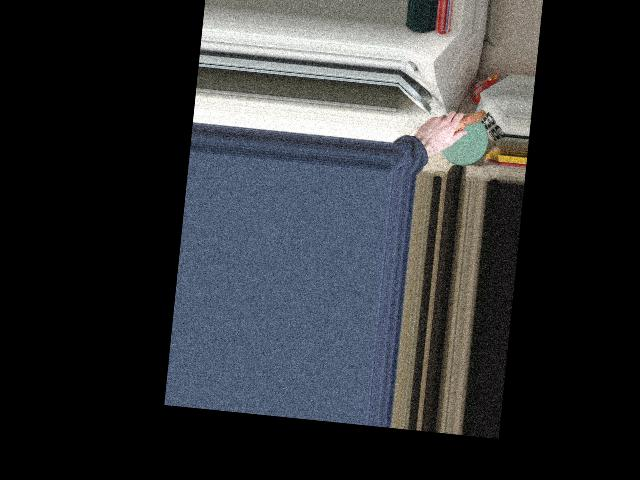sweet_potato: (430, 104, 484, 148)
